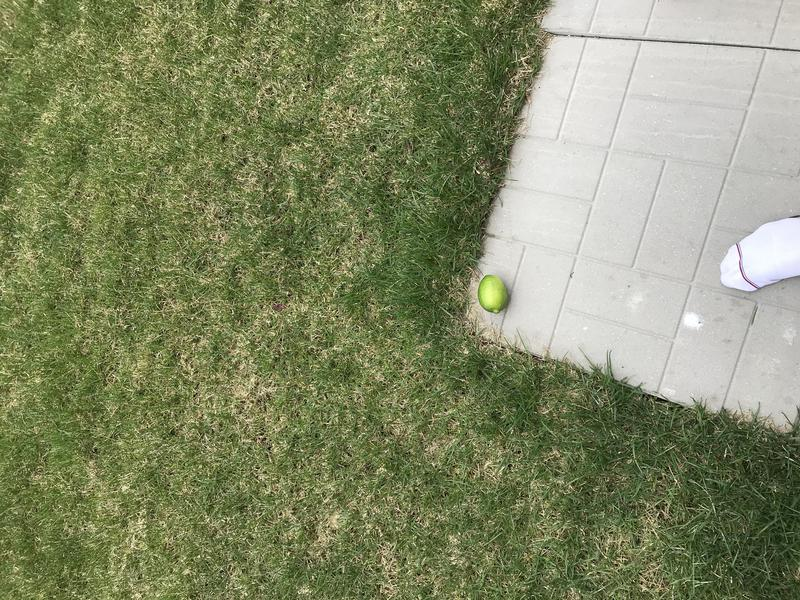lime: (467, 271, 520, 322)
